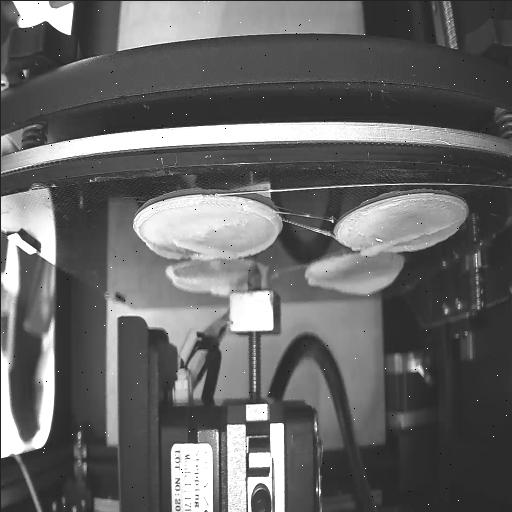over_extrusion: (358, 222, 450, 258), (304, 268, 398, 295), (238, 206, 279, 256), (172, 272, 228, 298), (170, 238, 234, 260)
